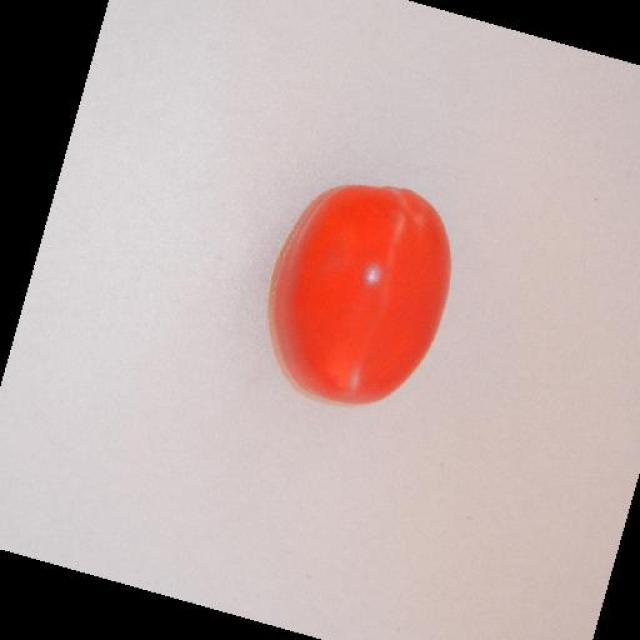Fresh Tomato: (252, 155, 460, 439)
